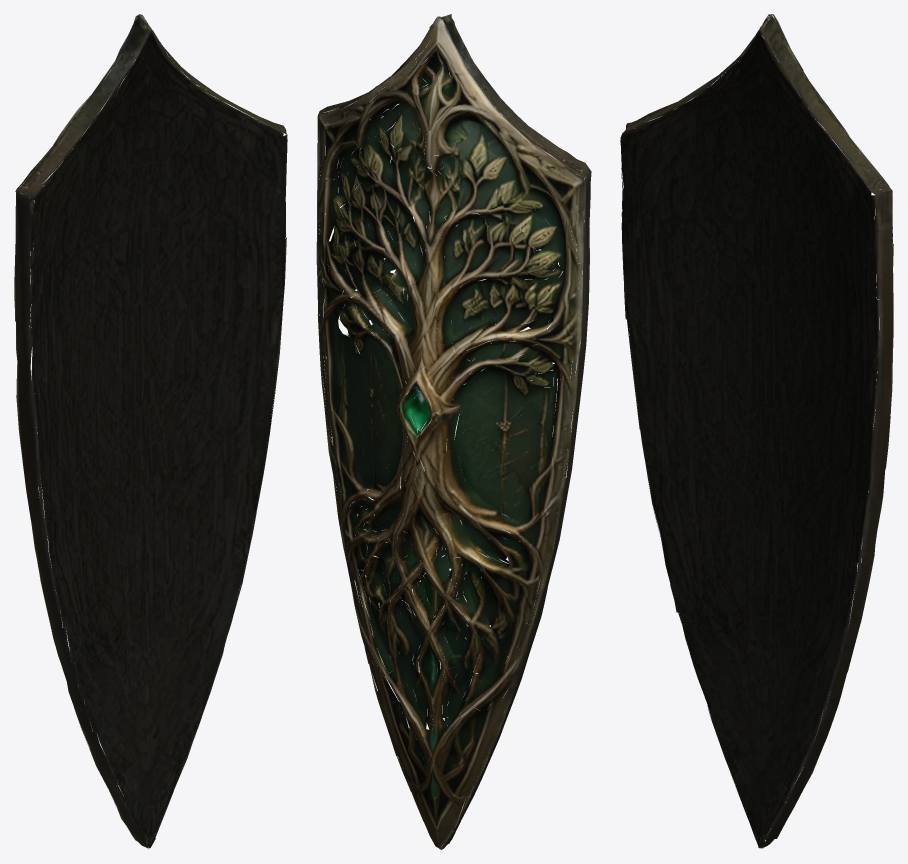
Rendered from kite_elder.glb.
3 renders of one model, left to right at view 1: azimuth 30°, elevation 25°; view 2: azimuth 150°, elevation 25°; view 3: azimuth 330°, elevation 25°, orthographic.
Parts seen in each view (by area): view 1: kite_elder; view 2: kite_elder; view 3: kite_elder.
Part boxes in pixels (x1,y1,x2,y2): kite_elder: (14,14,287,849); kite_elder: (316,14,591,849); kite_elder: (620,14,893,848).
Bounding box in the file's own units: 0.334 × 0.9903 × 0.108.
Materials: 1 (1 with a texture image).
